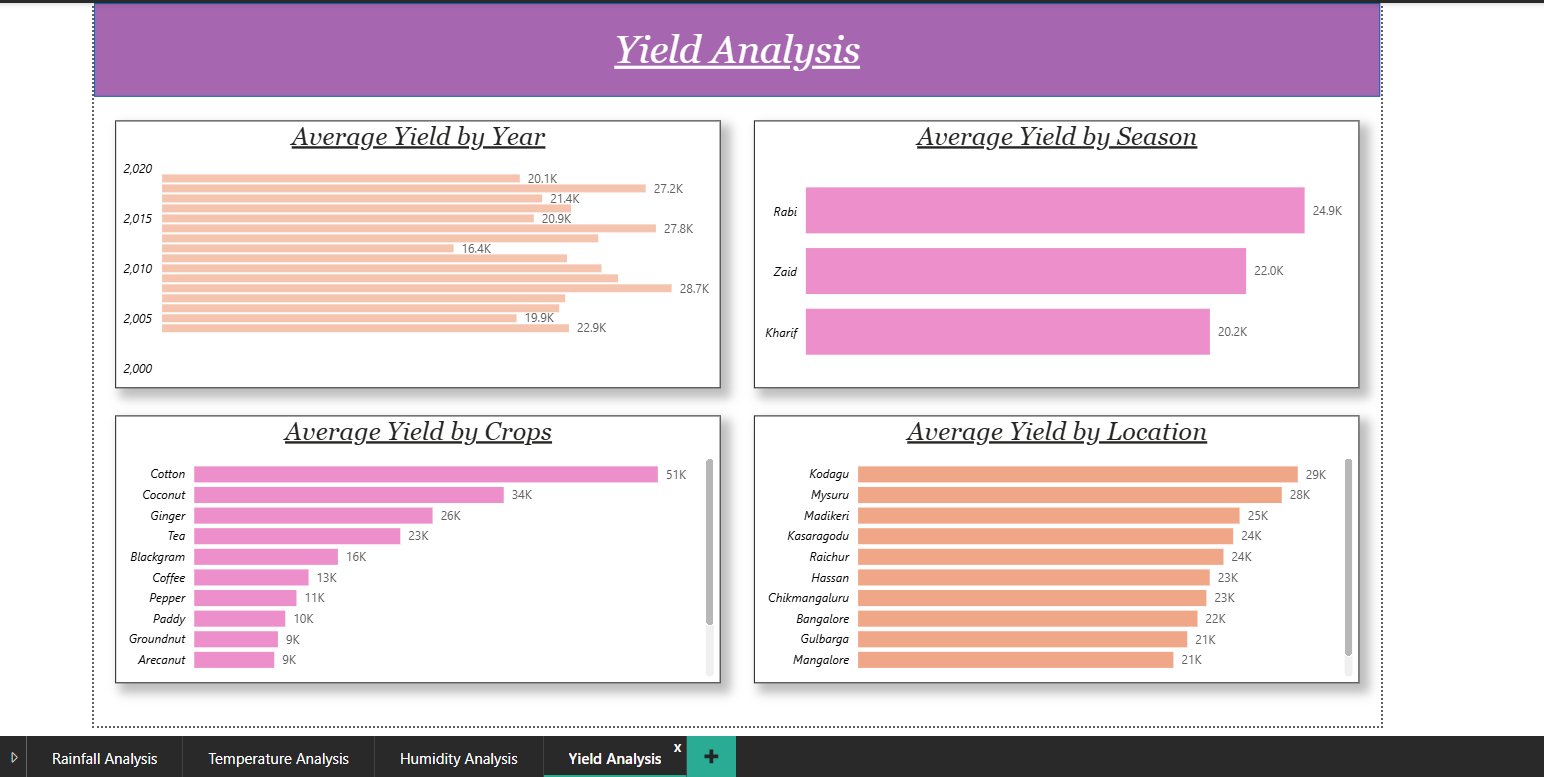

Layout of this report page (visuals, bound fields, positions):
{"tool":"powerbi","page":{"name":"Yield Analysis","canvas":[1280,720],"ordinal":3},"visuals":[{"type":"shape","box":[0,0,1280,93.3],"z":0},{"type":"barChart","title":"Average Yield by Year","fields":{"Category":["AGRICULTURE.YEAR"],"Y":["Avg(AGRICULTURE.YEILDS)"]},"box":[21.1,116.9,602.1,266.2],"z":1000},{"type":"barChart","title":"Average Yield by Season","fields":{"Category":["AGRICULTURE.SEASON"],"Y":["Avg(AGRICULTURE.YEILDS)"]},"box":[656.8,116.9,602.1,266.2],"z":2000},{"type":"barChart","title":"Average Yield by Crops","fields":{"Category":["AGRICULTURE.CROPS"],"Y":["Avg(AGRICULTURE.YEILDS)"]},"box":[21.1,410.5,602.1,266.2],"z":3000},{"type":"barChart","title":"Average Yield by Location","fields":{"Category":["AGRICULTURE.LOCATION"],"Y":["Avg(AGRICULTURE.YEILDS)"]},"box":[656.8,410.5,602.1,266.2],"z":4000}]}

Visuals, with their boxes on the page's 1280x720 design canvas (x1, y1, x2, y2). These are canvas units, not pixel positions in the 1544x777 screenshot, which may show the page scaled, cropped or inside an application window:
shape: l=0, t=0, r=1280, b=93
"Average Yield by Year" barChart: l=21, t=117, r=623, b=383
"Average Yield by Season" barChart: l=657, t=117, r=1259, b=383
"Average Yield by Crops" barChart: l=21, t=410, r=623, b=677
"Average Yield by Location" barChart: l=657, t=410, r=1259, b=677
